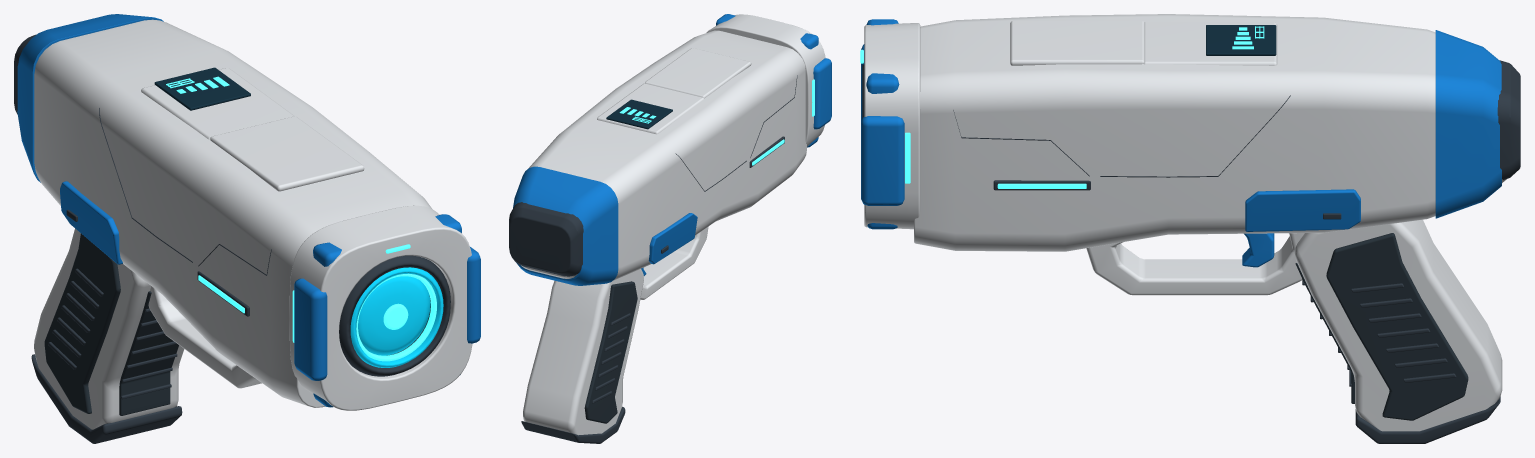
File: TrapPlacementProjectionGun.fbx
The picture shows the model from 3 angles, left to right: view 1: azimuth 30°, elevation 25°; view 2: azimuth 150°, elevation 25°; view 3: azimuth 270°, elevation 25°; orthographic projection. The views are drawn at different scales.
Parts seen in each view (by area): view 1: BodyShell, Detail_PG_WhiteShell, Detail_PG_BlueArmor, Detail_PG_DarkStructure, GripFrame, Detail_PG_GripRubber, ProjectionWindow, GripFrontRubber, TriggerGuard, Detail_PG_CyanEmission, Detail_PG_DisplayGlass, Detail_PG_ProjectionLens; view 2: BodyShell, GripFrame, Detail_PG_BlueArmor, Detail_PG_WhiteShell, Detail_PG_DarkStructure, Detail_PG_GripRubber, TriggerGuard, Detail_PG_DisplayGlass, Detail_PG_CyanEmission; view 3: BodyShell, Detail_PG_BlueArmor, Detail_PG_WhiteShell, GripFrame, Detail_PG_GripRubber, TriggerGuard, Detail_PG_DarkStructure, Detail_PG_DisplayGlass, Detail_PG_CyanEmission, Trigger.
Part boxes in pixels (x1,y1,x2,y2): BodyShell: (34,19,432,407); Detail_PG_WhiteShell: (141,68,472,410); Detail_PG_BlueArmor: (17,14,480,407); Detail_PG_DarkStructure: (14,34,450,443); GripFrame: (34,228,184,429); Detail_PG_GripRubber: (44,233,120,413); ProjectionWindow: (358,276,430,355); GripFrontRubber: (119,291,178,415); TriggerGuard: (148,286,261,388); Detail_PG_CyanEmission: (166,76,436,361); Detail_PG_DisplayGlass: (154,67,250,110); Detail_PG_ProjectionLens: (350,267,443,367); BodyShell: (521,30,806,280); GripFrame: (523,269,643,435); Detail_PG_BlueArmor: (513,14,831,285); Detail_PG_WhiteShell: (597,14,825,146); Detail_PG_DarkStructure: (509,75,797,443); Detail_PG_GripRubber: (584,281,637,423); TriggerGuard: (640,226,708,299); Detail_PG_DisplayGlass: (606,99,672,129); Detail_PG_CyanEmission: (619,79,814,165); BodyShell: (914,14,1506,251); Detail_PG_BlueArmor: (861,19,1501,231); Detail_PG_WhiteShell: (864,21,1277,229); GripFrame: (1294,219,1502,431); Detail_PG_GripRubber: (1326,233,1468,420); TriggerGuard: (1086,233,1304,295); Detail_PG_DarkStructure: (862,60,1520,443); Detail_PG_DisplayGlass: (1206,25,1276,55); Detail_PG_CyanEmission: (860,26,1264,188); Trigger: (1242,233,1274,267).
Size of the model in its own units: 0.0939 by 0.2069 by 0.3189.
